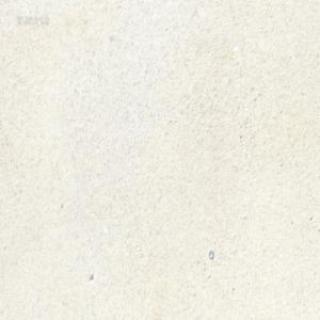Washertrack_idkeyframe: (207, 248, 213, 259)
